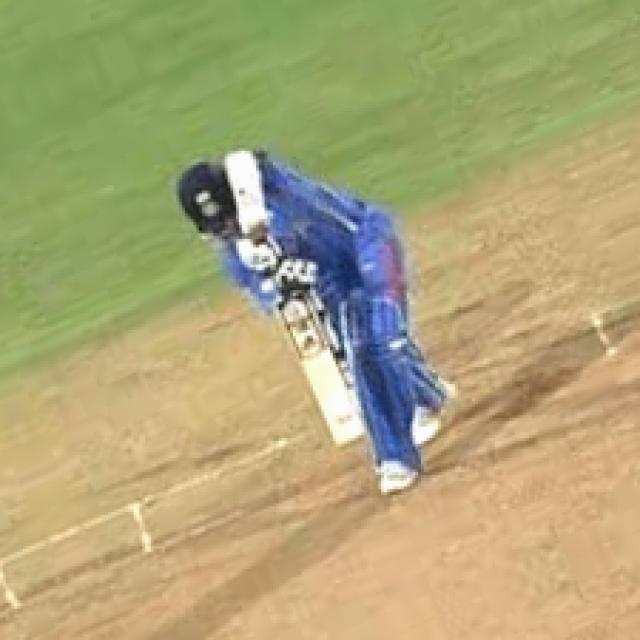toe: (308, 387, 369, 454)
